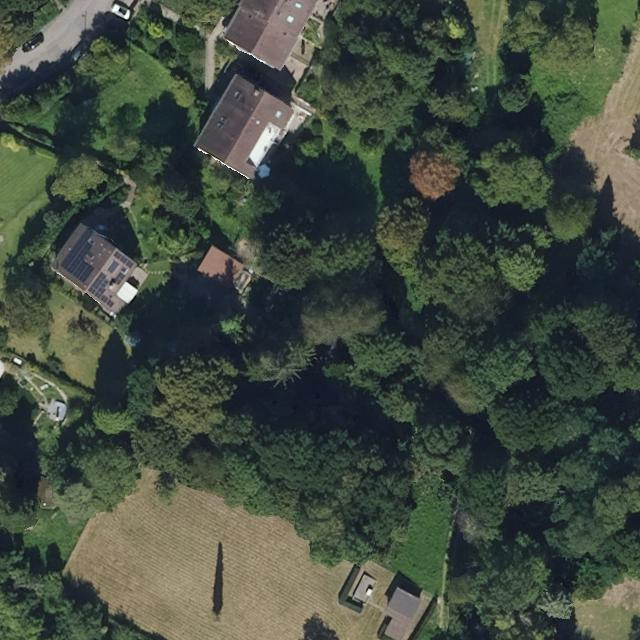PV: (56, 225, 97, 284), (87, 271, 116, 309), (113, 250, 136, 270), (107, 261, 120, 275), (113, 272, 126, 286)
